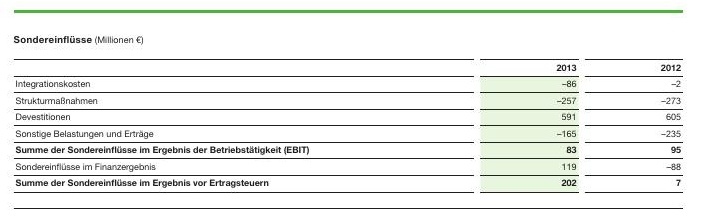table: (0, 0, 702, 220)
